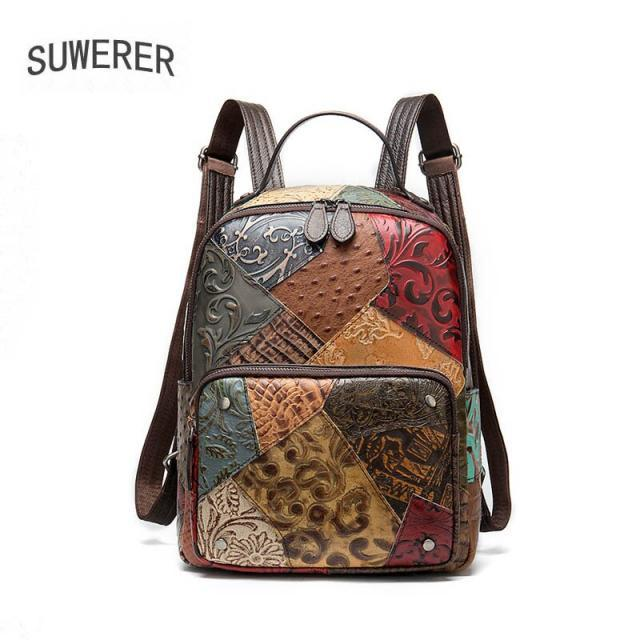Backpacks: (167, 180, 486, 580)
